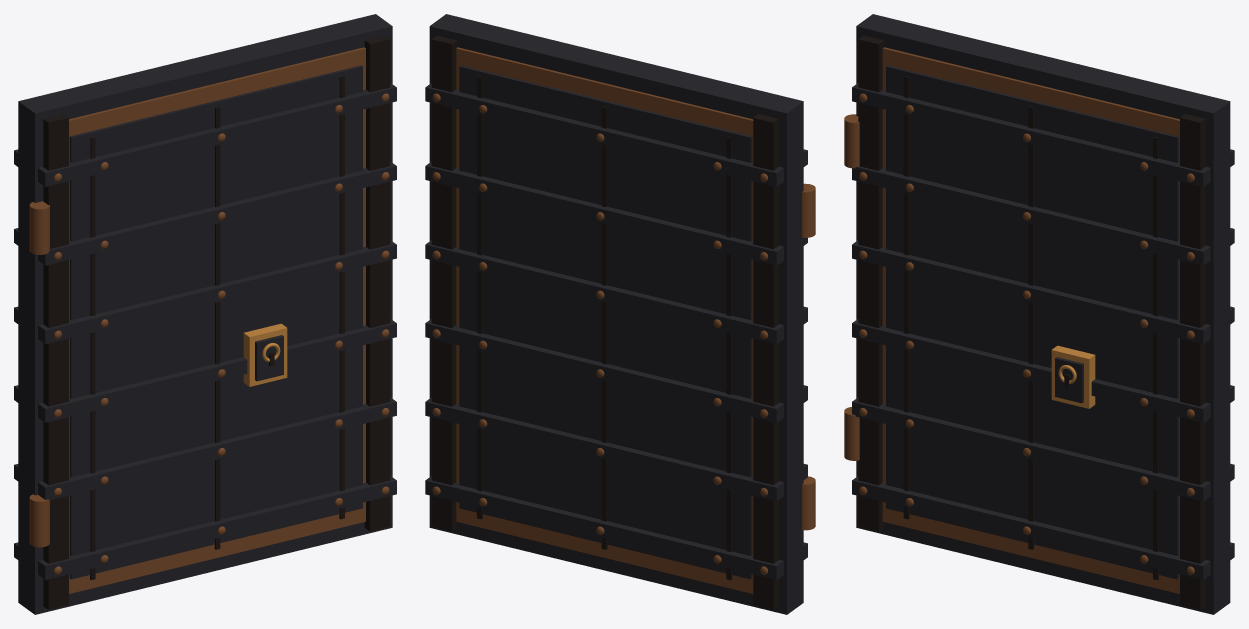
Rendered from mia-iron_door.glb.
3 renders of one model, left to right at view 1: azimuth 30°, elevation 25°; view 2: azimuth 150°, elevation 25°; view 3: azimuth 330°, elevation 25°, orthographic.
Parts seen in each view (by area): view 1: Body_iron, Body_black, Body_rust, Body_brass; view 2: Body_iron, Body_black, Body_rust; view 3: Body_iron, Body_black, Body_rust, Body_brass.
Part boxes in pixels (x1,y1,x2,y2): Body_iron: (14,14,396,614); Body_black: (43,35,390,609); Body_rust: (29,47,389,593); Body_brass: (243,323,287,386); Body_iron: (425,14,807,614); Body_black: (431,35,778,609); Body_rust: (432,47,815,593); Body_iron: (852,14,1234,614); Body_black: (858,35,1205,609); Body_rust: (844,47,1194,593); Body_brass: (1051,345,1095,408).
Bounding box in the file's own units: 2.43 × 3.19 × 0.451.
